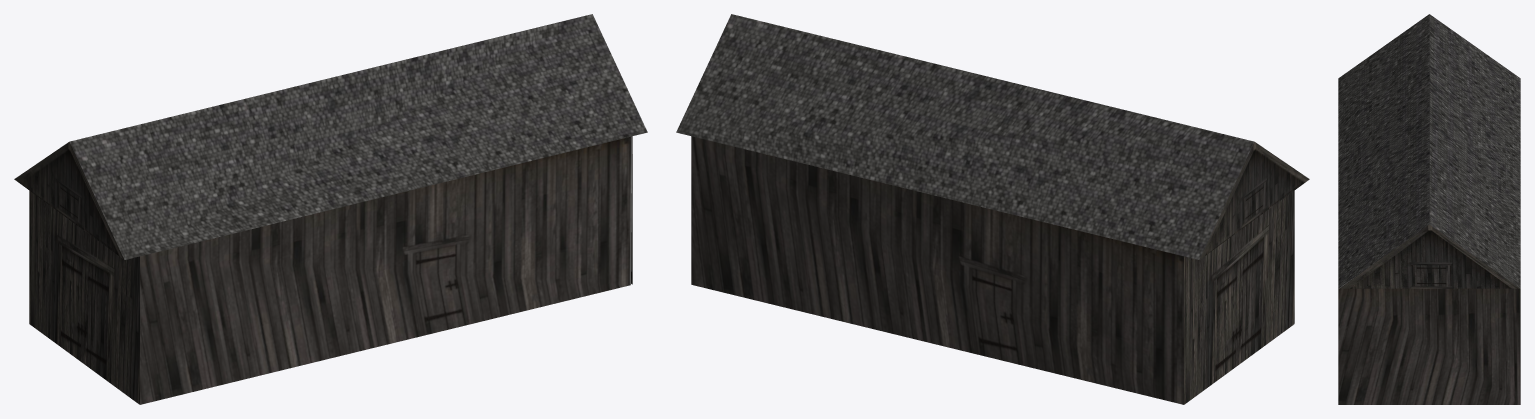
The model's file is HouseWithTexture.fbx.
The picture shows the model from 3 angles, left to right: view 1: azimuth 30°, elevation 25°; view 2: azimuth 150°, elevation 25°; view 3: azimuth 270°, elevation 25°; orthographic projection. The views are drawn at different scales.
Visible parts, largest first — view 1: Cube; view 2: Cube; view 3: Cube.
Boxes of the visible parts, bbox=[...] form: Cube: bbox=[14, 14, 647, 404]; Cube: bbox=[676, 14, 1309, 404]; Cube: bbox=[1338, 14, 1520, 404].
Bounding box in the file's own units: 1018 × 421 × 372.
